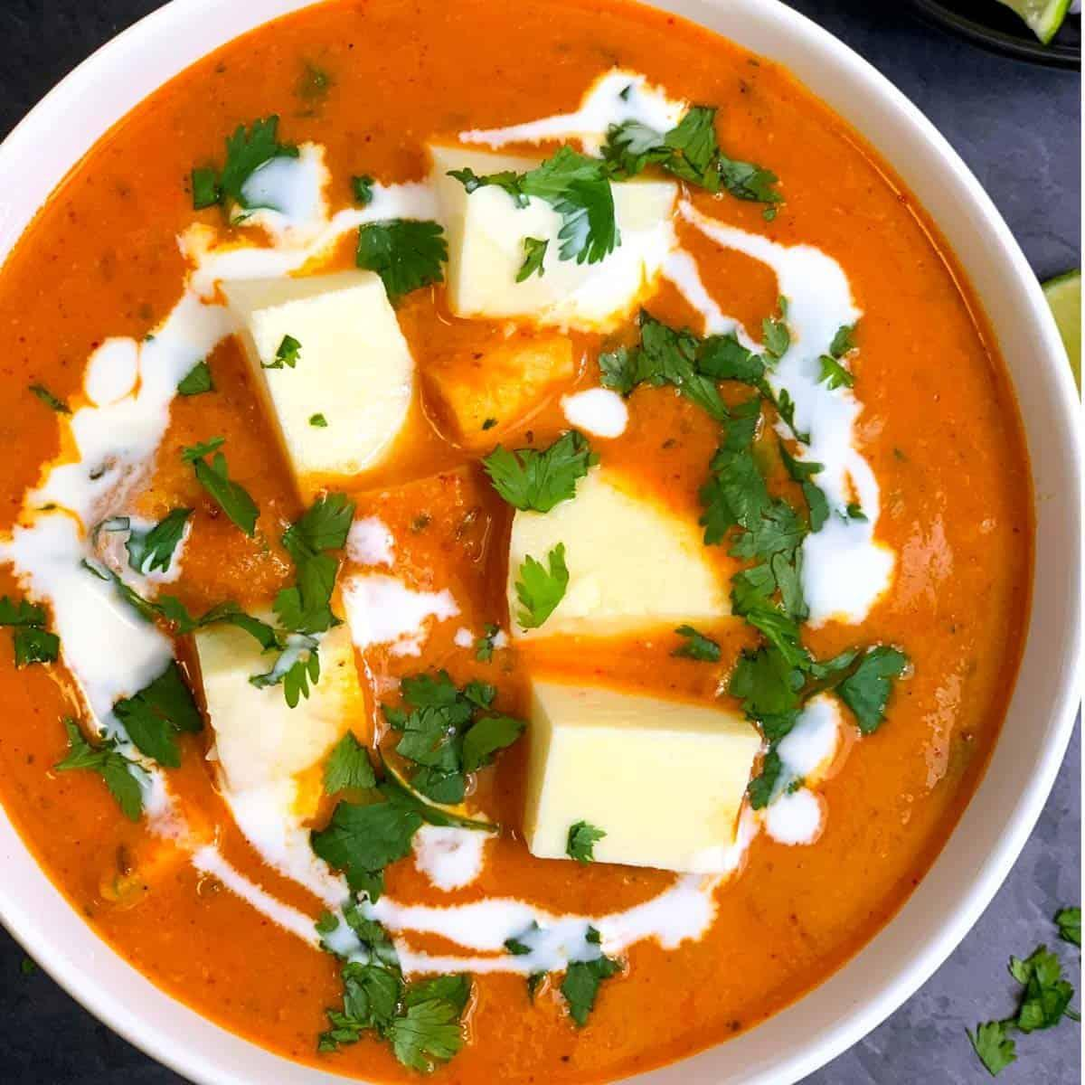paneer: (170, 224, 744, 865)
